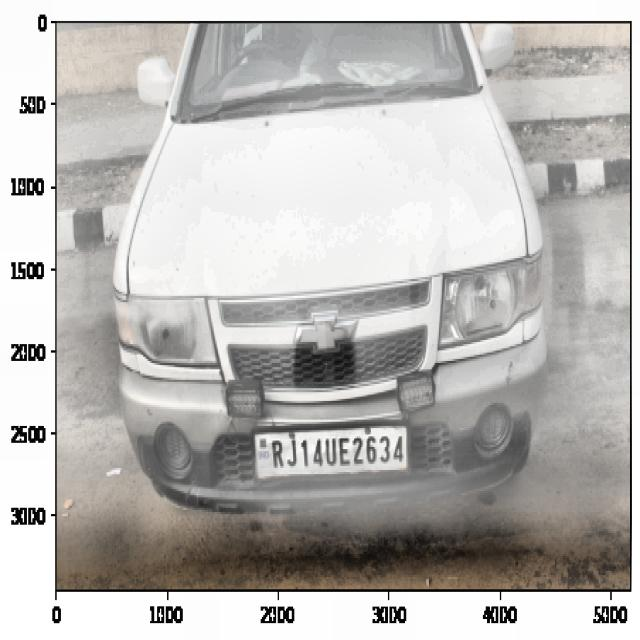license_plate: (263, 427, 409, 473)
